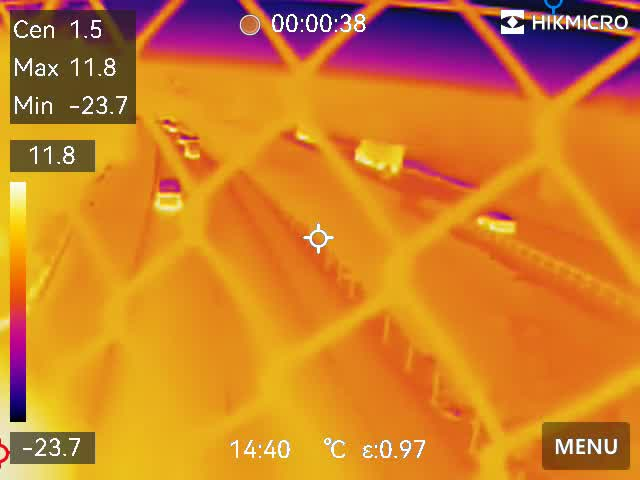heavyTruck: (357, 135, 409, 178)
smallCar: (470, 207, 521, 234)
vehicle: (154, 173, 186, 214), (178, 133, 201, 162), (161, 120, 179, 137)
